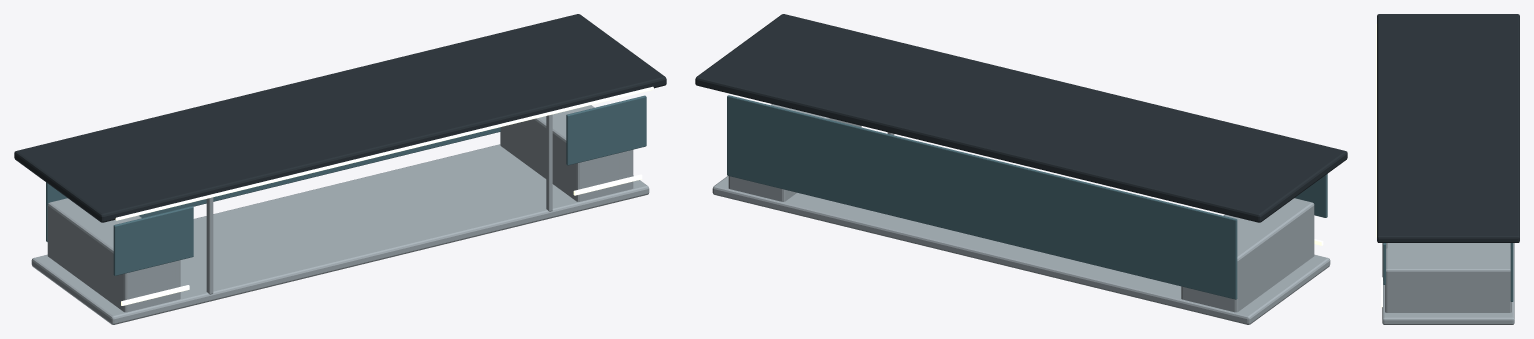
The model's file is train-DwPaMNof.glb.
The picture shows the model from 3 angles, left to right: view 1: azimuth 30°, elevation 25°; view 2: azimuth 150°, elevation 25°; view 3: azimuth 270°, elevation 25°; orthographic projection. The views are drawn at different scales.
Parts seen in each view (by area): view 1: train_roof, train_floor, car_end, car_end.001, cab_window.001, cab_window, rear_windows, train_light, door_post, door_post.001; view 2: train_roof, rear_windows, train_floor, car_end, car_end.001, cab_window; view 3: train_roof, car_end.001, train_floor, rear_windows, train_light, cab_window.001.
Boxes of the visible parts, x1,y1,x2,y2 form: train_roof: (14, 14, 666, 222); train_floor: (31, 144, 649, 324); car_end: (47, 198, 180, 312); car_end.001: (500, 105, 633, 201); cab_window.001: (566, 95, 646, 165); cab_window: (113, 206, 193, 275); rear_windows: (46, 127, 500, 241); train_light: (115, 86, 653, 220); door_post: (206, 197, 213, 294); door_post.001: (546, 114, 552, 211); train_roof: (695, 14, 1347, 222); rear_windows: (727, 95, 1237, 299); train_floor: (712, 176, 1330, 324); car_end: (1181, 198, 1314, 312); car_end.001: (728, 104, 861, 201); cab_window: (1295, 174, 1327, 217); train_roof: (1377, 14, 1519, 242); car_end.001: (1385, 248, 1511, 312); train_floor: (1382, 243, 1514, 324); rear_windows: (1510, 243, 1513, 301); train_light: (1376, 24, 1376, 237); cab_window.001: (1383, 243, 1385, 284).
Size of the model in its own units: 20 by 3.95 by 5.44.
